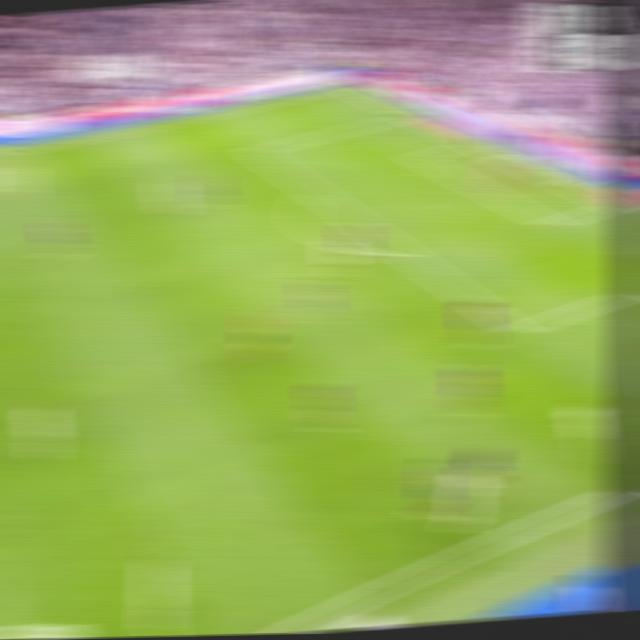bigarea_bottom_inner: (503, 318, 532, 342)
bigarea_top_inner: (246, 145, 270, 157)
bigarea_top_outter: (395, 109, 418, 119)
bottom_arc_area_intersection: (389, 243, 418, 263)
corner: (333, 83, 355, 88)
smallarea_top_inner: (410, 151, 432, 162)
top_arc_area_intersection: (302, 183, 329, 198)
